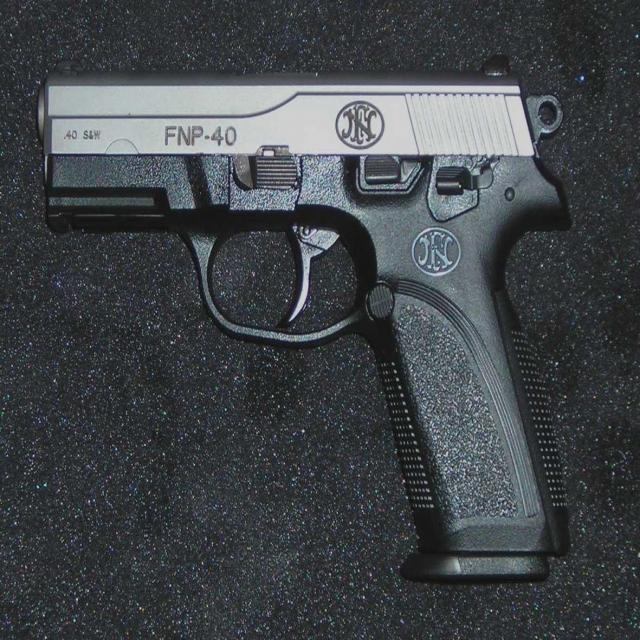pistol: (35, 70, 572, 581)
